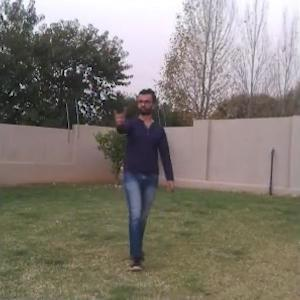takeoff-hand: (109, 99, 128, 129)
